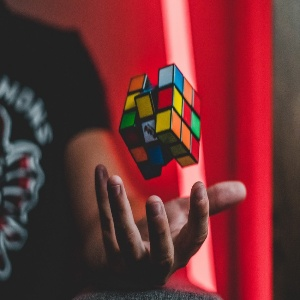cube: (119, 63, 202, 182)
